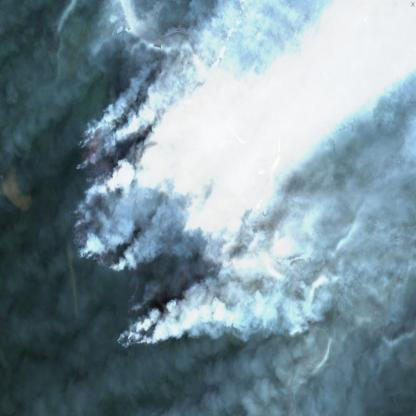fire: (66, 100, 233, 350)
